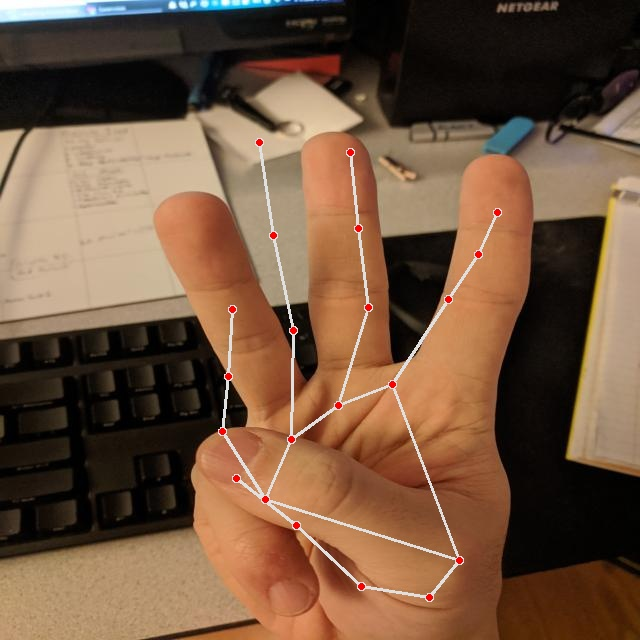W: (147, 126, 543, 640)
